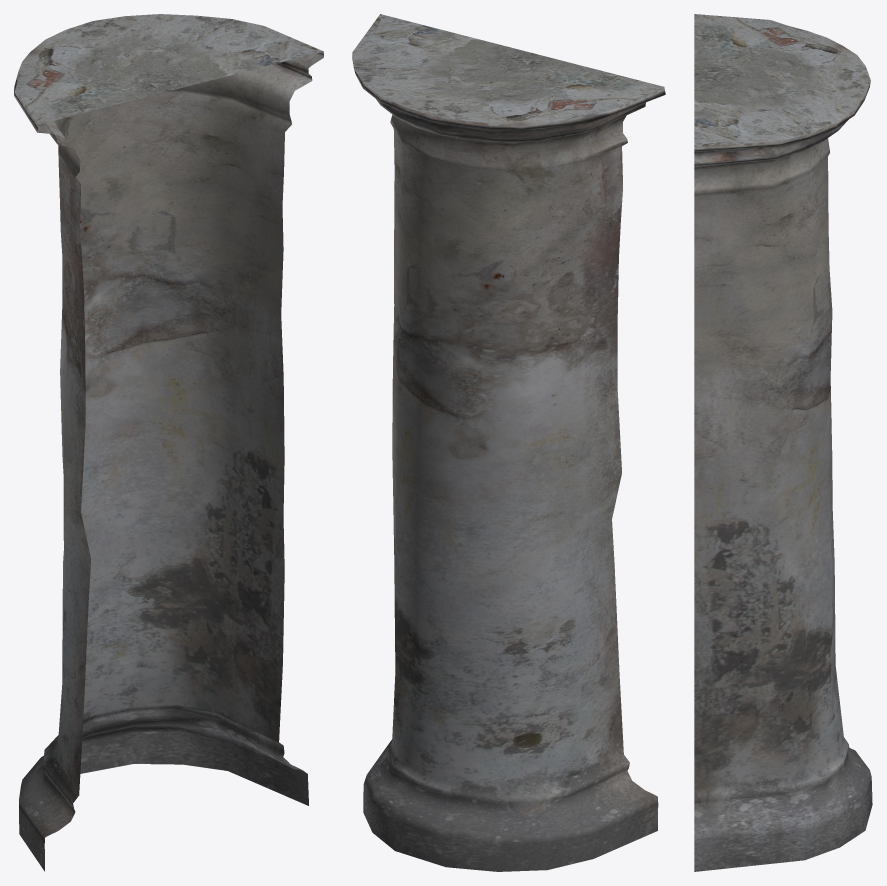
Rendered from SM_CryptColumn_01_04.fbx.
The picture shows the model from 3 angles, left to right: view 1: azimuth 30°, elevation 25°; view 2: azimuth 150°, elevation 25°; view 3: azimuth 270°, elevation 25°; orthographic projection. The views are drawn at different scales.
Visible parts, largest first — view 1: sm_CryptColumn_01_04_LOD0; view 2: sm_CryptColumn_01_04_LOD0; view 3: sm_CryptColumn_01_04_LOD0.
Boxes of the visible parts, bbox=[...] form: sm_CryptColumn_01_04_LOD0: bbox=[14, 14, 323, 871]; sm_CryptColumn_01_04_LOD0: bbox=[352, 14, 665, 871]; sm_CryptColumn_01_04_LOD0: bbox=[694, 14, 872, 871].
Bounding box in the file's own units: 41.69 × 75.62 × 190.
